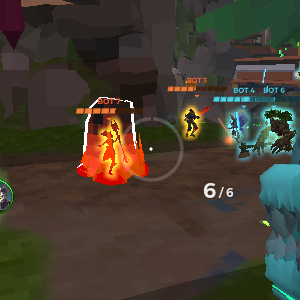model: (97, 118, 122, 173), (184, 105, 198, 140)
